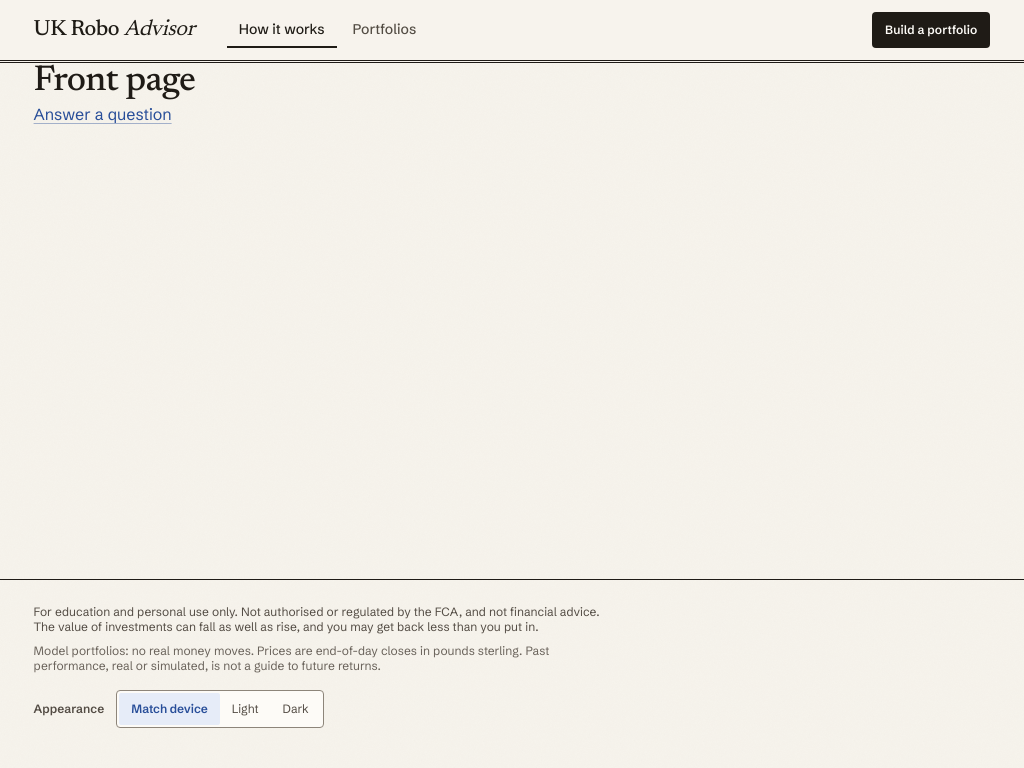
Scenario: AppShell › starts the next page at the top, with focus on its content
What coordinates should you click on to do the following:
click the link "Portfolios"
I would click on:
 (384, 29)
Its box is [352, 20, 416, 38].
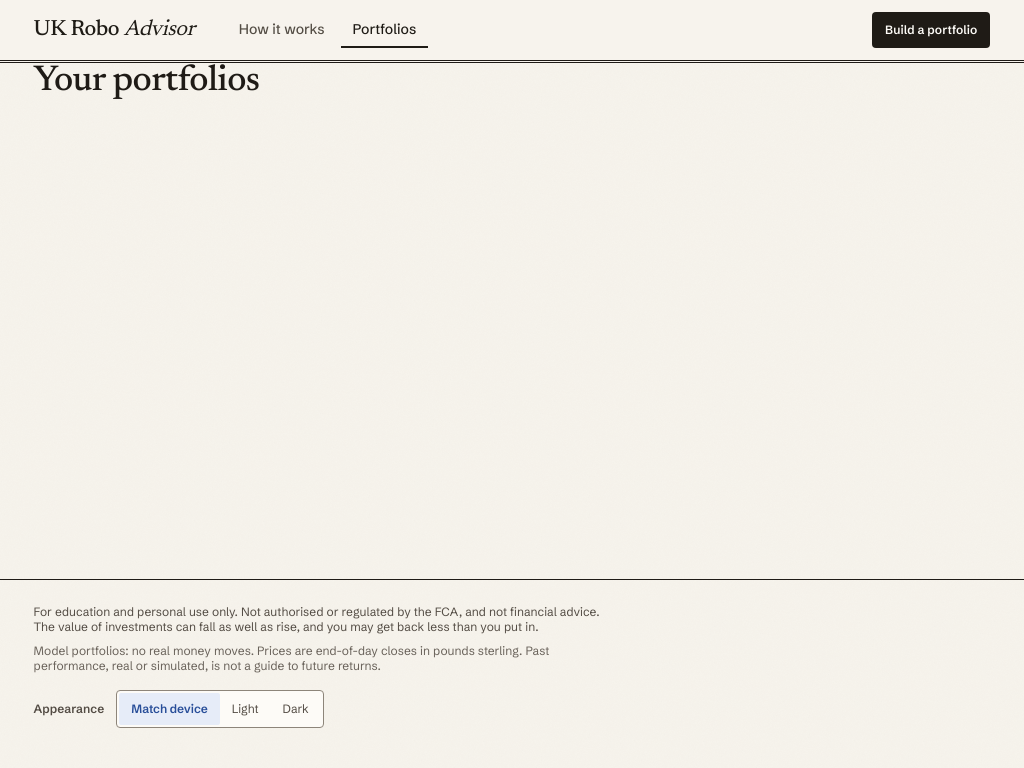
Now the heading "Your portfolios" is shown, box [34, 64, 259, 100]
